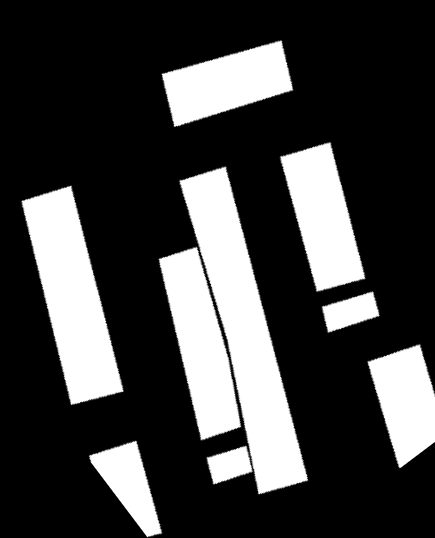parkingspot: (180, 167, 308, 494), (22, 186, 123, 405), (159, 247, 241, 440), (280, 142, 365, 292), (162, 41, 293, 127), (368, 345, 435, 468), (89, 441, 162, 537), (322, 292, 380, 333)
